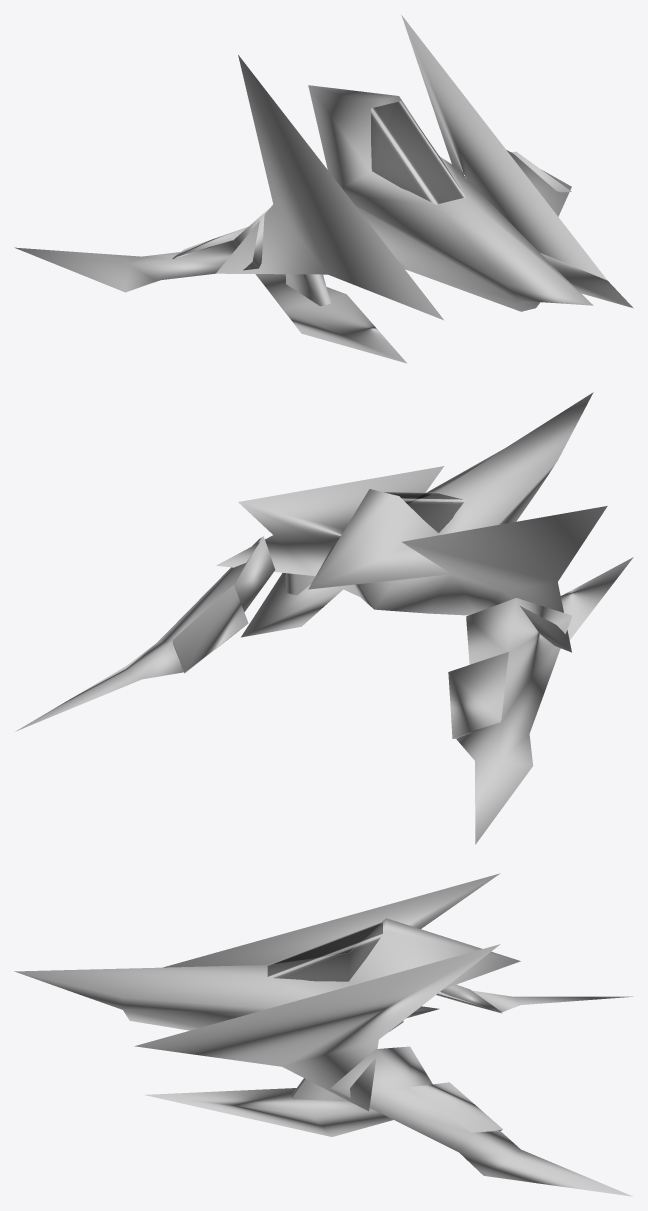
Rendered from arwingNew41.obj.
The picture shows the model from 3 angles, top to bottom: view 1: azimuth 30°, elevation 25°; view 2: azimuth 150°, elevation 25°; view 3: azimuth 270°, elevation 25°; orthographic projection. The views are drawn at different scales.
Parts seen in each view (by area): view 1: Arwing.002; view 2: Arwing.002; view 3: Arwing.002.
Boxes of the visible parts, x1,y1,x2,y2 form: Arwing.002: (14,15,633,363); Arwing.002: (15,392,633,844); Arwing.002: (14,873,632,1196).
Size of the model in its own units: 4.9 by 2.15 by 6.41.
